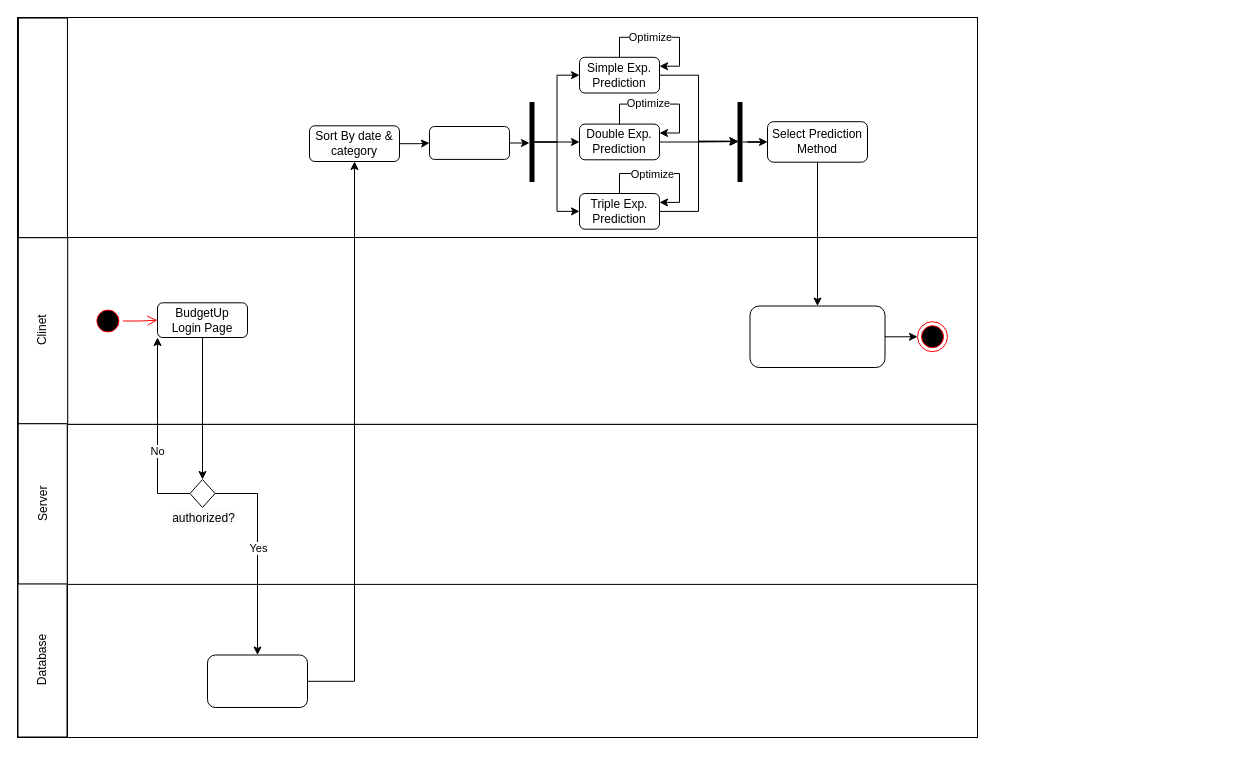
This 1255x775 diagram has some shape labels left out. Here are the shapes that lost their labels. From the top down, the centre of each, then its label:
point (42, 127): Prediction Controller
point (469, 142): Calculate Sums
point (817, 336): Home Page - Transactions and Prediction
point (257, 681): Load user Transaction
